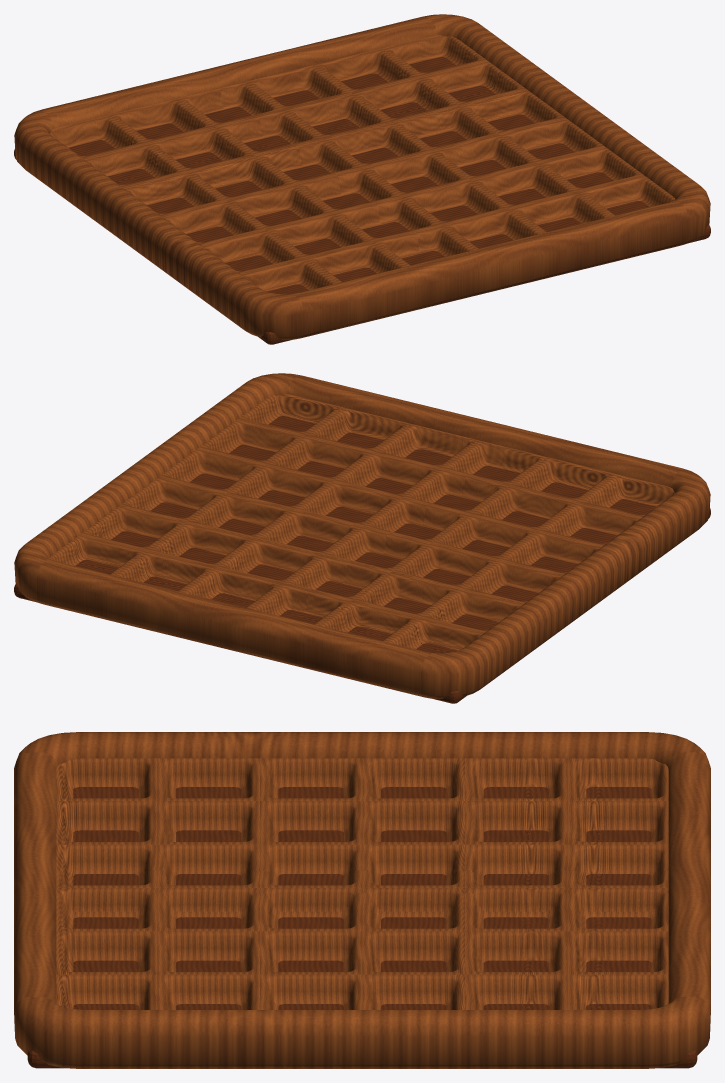
The model's file is board.glb.
The picture shows the model from 3 angles, top to bottom: view 1: azimuth 30°, elevation 25°; view 2: azimuth 150°, elevation 25°; view 3: azimuth 270°, elevation 25°; orthographic projection. The views are drawn at different scales.
Parts seen in each view (by area): view 1: board-mesh; view 2: board-mesh; view 3: board-mesh.
Boxes of the visible parts, x1,y1,x2,y2 form: board-mesh: [14, 14, 710, 344]; board-mesh: [14, 373, 710, 703]; board-mesh: [14, 732, 710, 1068].
Bounding box in the file's own units: 0.618 × 0.054 × 0.618.
Materials: 2 (2 with a texture image).
